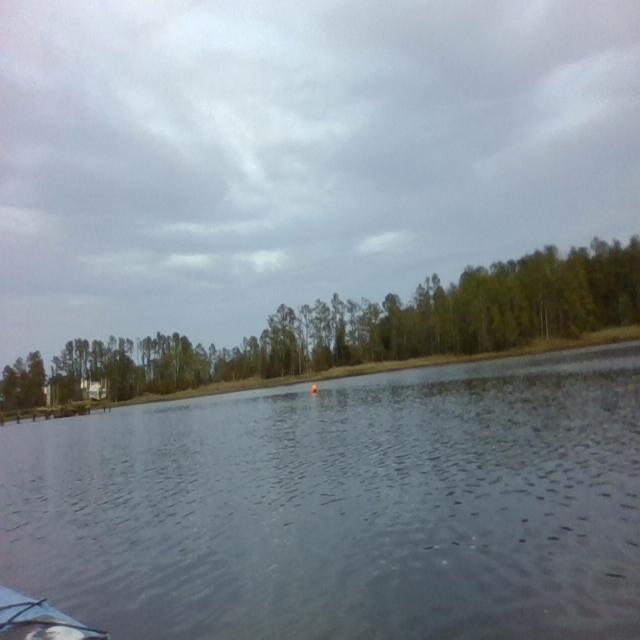Buoy: (310, 382, 318, 397)
